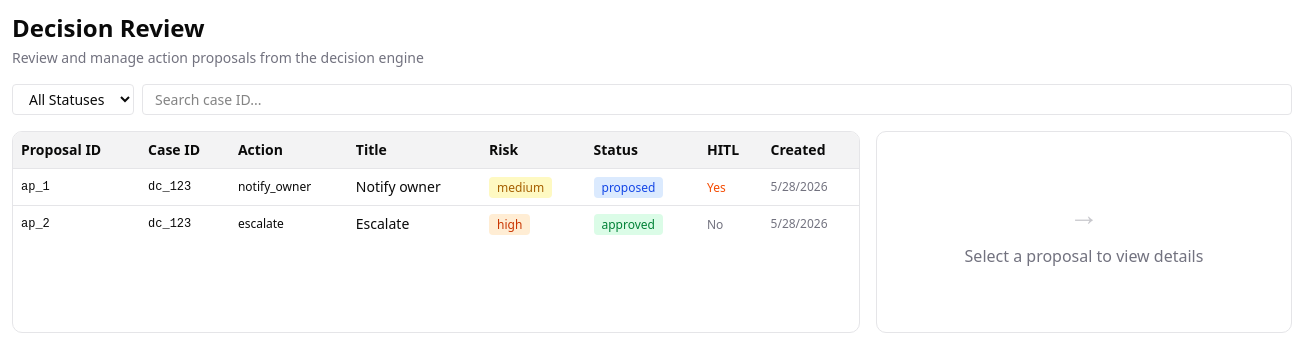
Scenario: DecisionReview › filters proposals by case search
Expected: the text "notify_owner" is shown, x1=230 y1=168 x2=348 y2=206
Type "NONEXISTENT" into the field with placeholder "Search case ID...". click: (717, 100)
box: x1=142 y1=84 x2=1292 y2=115
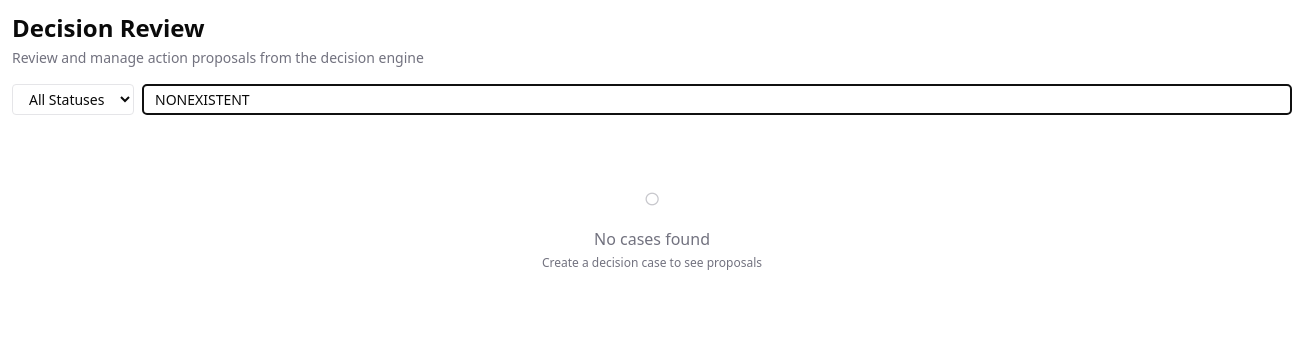
Expected: the text "notify_owner" is gone
Expected: the text "No cases found" is shown, x1=594 y1=227 x2=710 y2=251
